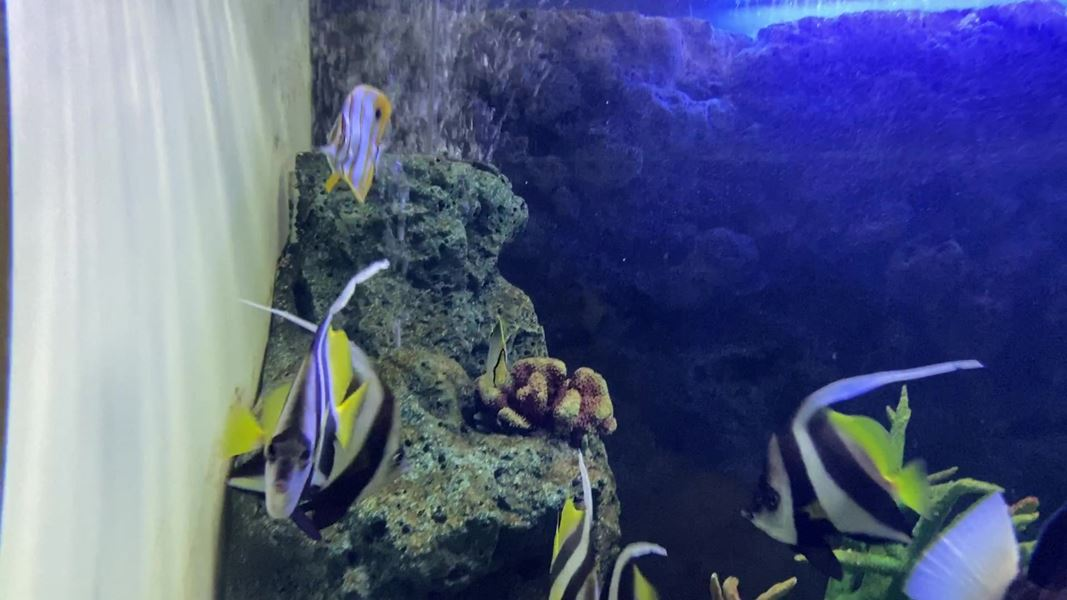Black-backed butterflyfish: (477, 306, 523, 397)
